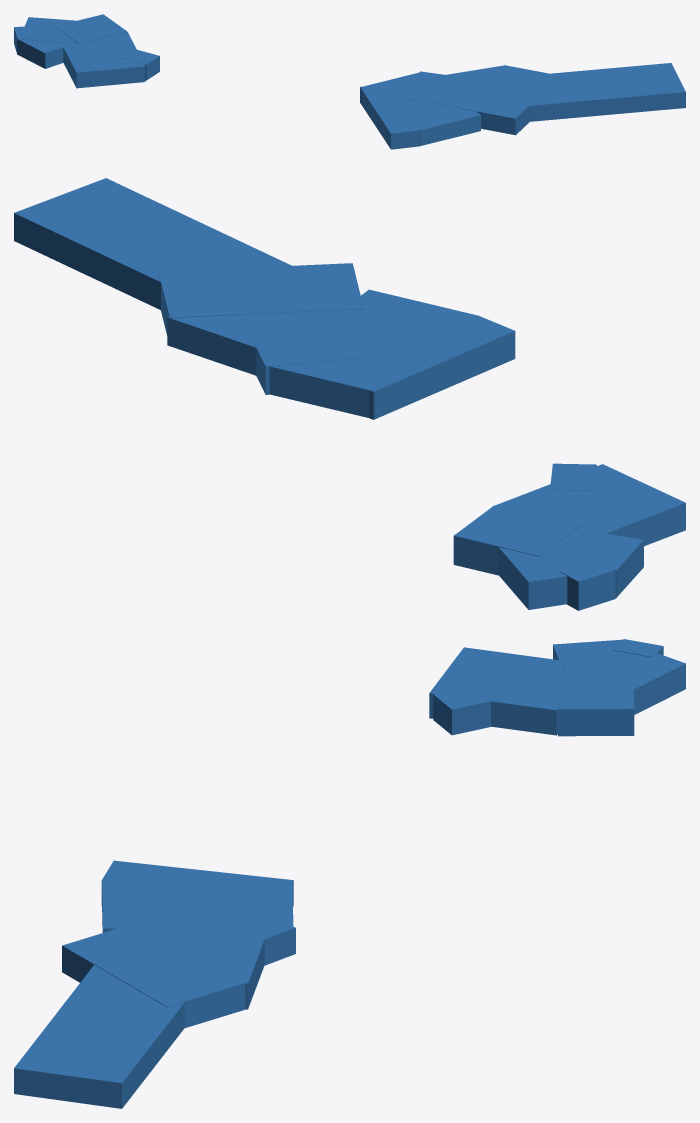
Rendered from p_Puddle_EG.fbx.
3 views of the same model, one above another, from view 1: azimuth 30°, elevation 25°; view 2: azimuth 150°, elevation 25°; view 3: azimuth 270°, elevation 25° (orthographic). The views are drawn at different scales.
Parts seen in each view (by area): view 1: Water__26_, Water__34_, Water__28_, Water__29_, Water__27_, Water__35_, Water__30_, Water__32_, Water__31_, Water__36_, Water__33_, Water__38_; view 2: Water__26_, Water__28_, Water__34_, Water__29_, Water__27_, Water__35_, Water__30_, Water__31_, Water__33_, Water__38_, Water__32_, Water__36_; view 3: Water__26_, Water__34_, Water__29_, Water__27_, Water__30_, Water__28_, Water__35_, Water__31_, Water__36_, Water__33_, Water__32_.
Part boxes in pixels (<box>): Water__26_: <box>529,63,685,121</box>; Water__34_: <box>459,65,560,135</box>; Water__28_: <box>360,72,480,145</box>; Water__29_: <box>61,32,145,88</box>; Water__27_: <box>399,71,487,106</box>; Water__35_: <box>360,83,419,149</box>; Water__30_: <box>55,14,127,43</box>; Water__32_: <box>17,38,75,68</box>; Water__31_: <box>19,17,76,43</box>; Water__36_: <box>117,48,159,80</box>; Water__33_: <box>446,65,503,80</box>; Water__38_: <box>14,26,34,52</box>; Water__26_: <box>14,178,291,309</box>; Water__28_: <box>269,289,476,419</box>; Water__34_: <box>158,263,363,346</box>; Water__29_: <box>495,464,685,546</box>; Water__27_: <box>240,309,381,394</box>; Water__35_: <box>369,315,515,419</box>; Water__30_: <box>453,505,580,575</box>; Water__31_: <box>498,529,615,609</box>; Water__33_: <box>167,315,256,375</box>; Water__38_: <box>560,559,615,610</box>; Water__32_: <box>591,533,643,597</box>; Water__36_: <box>550,463,596,490</box>; Water__26_: <box>14,965,184,1108</box>; Water__34_: <box>62,921,248,1027</box>; Water__29_: <box>429,647,575,735</box>; Water__27_: <box>146,893,295,965</box>; Water__30_: <box>557,670,634,736</box>; Water__28_: <box>102,880,293,932</box>; Water__35_: <box>101,860,293,906</box>; Water__31_: <box>562,640,685,714</box>; Water__36_: <box>433,683,501,735</box>; Water__33_: <box>211,940,264,1009</box>; Water__32_: <box>553,639,622,667</box>.
Size of the model in its own units: 1633 by 152 by 1182.
